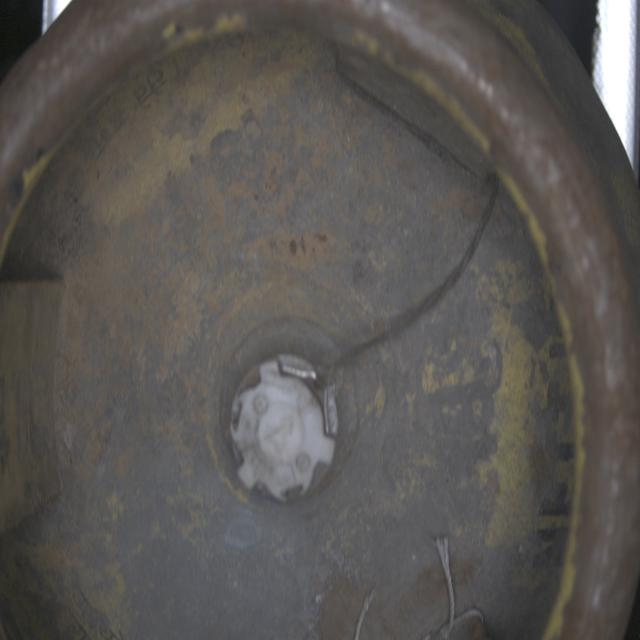Cap: (230, 347, 342, 501)
